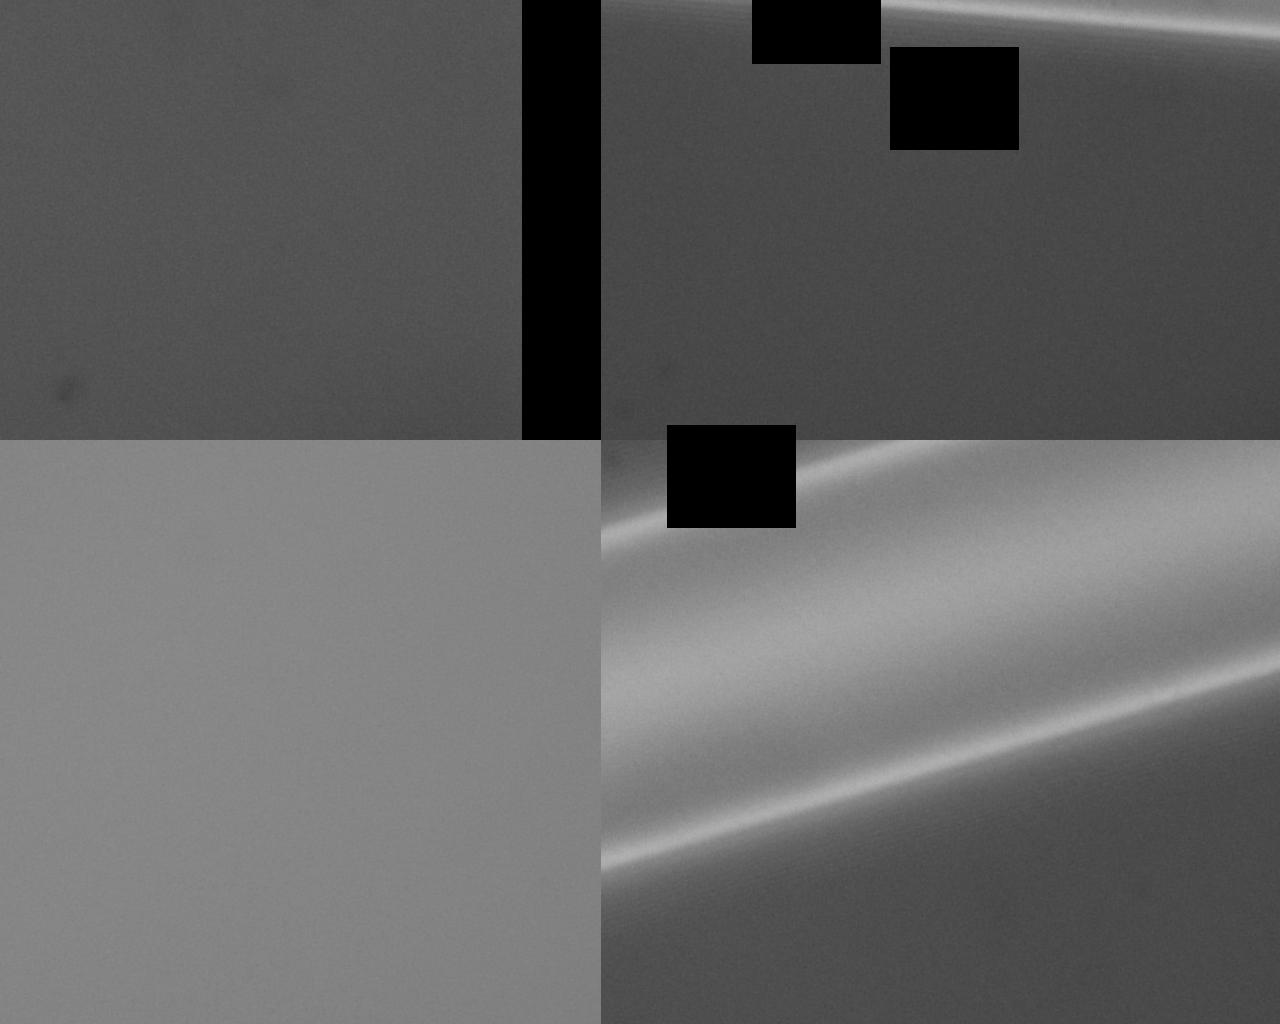fiber: (127, 430, 1151, 489)
